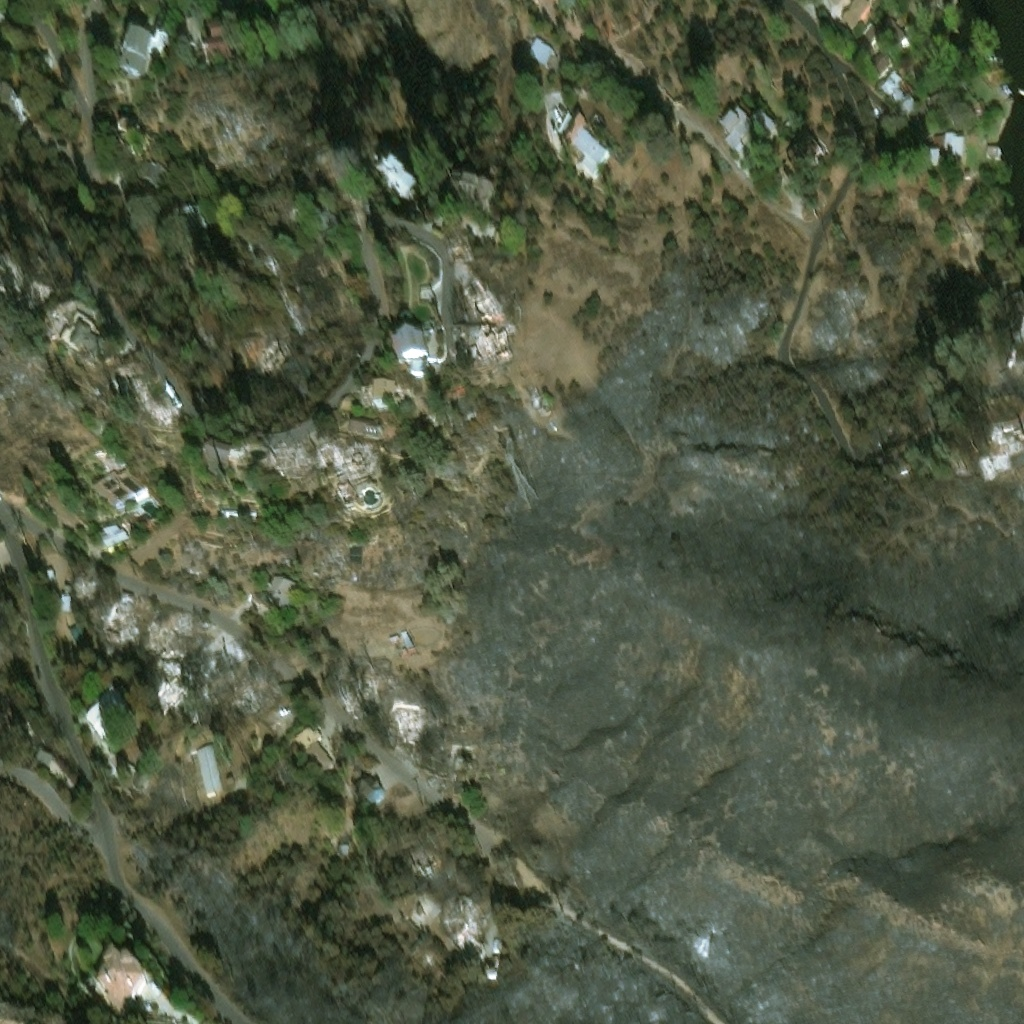0 no-damage: (779, 134, 831, 186), (93, 460, 146, 508), (84, 691, 135, 740), (725, 114, 781, 152), (872, 17, 910, 71), (411, 939, 455, 984), (376, 149, 419, 194), (293, 725, 335, 771), (449, 178, 497, 218), (572, 128, 611, 177), (70, 324, 112, 366), (61, 316, 105, 354), (350, 767, 386, 804), (122, 30, 153, 72), (203, 438, 236, 477), (198, 746, 223, 792), (719, 107, 752, 139), (841, 0, 874, 31), (395, 333, 428, 363), (117, 121, 145, 156), (914, 97, 948, 125), (139, 155, 168, 187), (879, 70, 906, 104), (99, 519, 128, 549), (528, 39, 558, 68), (934, 136, 966, 162), (349, 414, 384, 437), (560, 116, 588, 144), (409, 850, 439, 875), (584, 115, 609, 139), (203, 40, 234, 59), (374, 380, 398, 403), (184, 202, 206, 227), (897, 94, 919, 116), (266, 585, 291, 604), (270, 574, 295, 591), (34, 38, 53, 60), (35, 751, 56, 770), (485, 227, 504, 248), (209, 25, 230, 42), (221, 508, 256, 517), (412, 362, 430, 378), (361, 385, 374, 405), (339, 392, 354, 408), (863, 25, 878, 40), (927, 154, 942, 168), (60, 595, 73, 611), (986, 146, 1002, 158), (44, 569, 55, 585), (336, 839, 349, 852), (118, 688, 131, 701), (484, 970, 499, 980), (1000, 82, 1012, 94)
3 destroyed: (0, 255, 47, 310), (461, 274, 509, 326), (983, 420, 1023, 478), (340, 436, 379, 485), (470, 325, 506, 362), (158, 671, 194, 707), (233, 685, 268, 720), (452, 928, 482, 959), (315, 436, 340, 468), (115, 605, 138, 637), (448, 901, 475, 928), (333, 476, 358, 505), (114, 366, 140, 392), (154, 645, 181, 669), (146, 616, 170, 643), (106, 602, 126, 633), (154, 389, 176, 417), (170, 607, 192, 634), (270, 449, 304, 466), (392, 700, 418, 719), (76, 573, 96, 593), (271, 463, 305, 474), (397, 718, 418, 734), (453, 242, 469, 260), (120, 590, 135, 604), (294, 436, 311, 447), (139, 611, 154, 623), (500, 325, 516, 334), (74, 572, 82, 583), (163, 677, 172, 686), (144, 622, 151, 631)
4 un-classified: (99, 956, 151, 1020), (248, 317, 278, 349), (0, 718, 29, 745), (499, 281, 515, 307), (363, 677, 380, 694), (454, 342, 470, 359), (235, 356, 249, 366), (548, 0, 564, 7), (455, 386, 466, 395), (386, 675, 397, 682), (0, 10, 5, 20)
